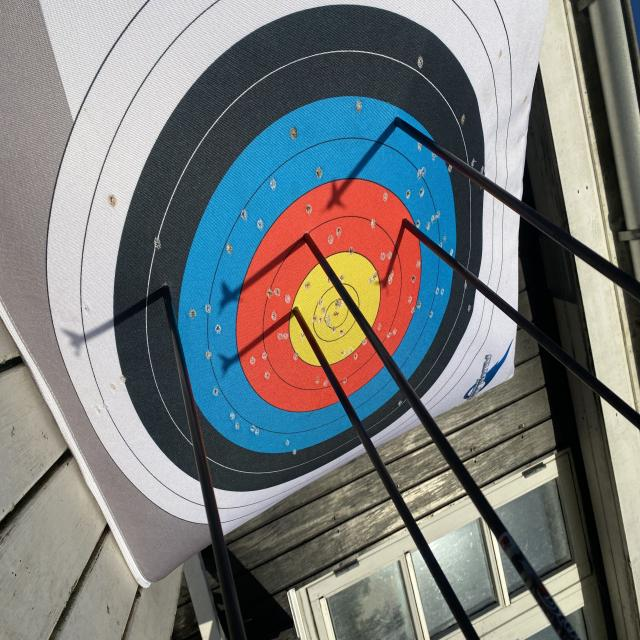Arrow_Black: (144, 266, 190, 302)
Arrow_Blue: (389, 106, 416, 142)
Arrow_Red: (289, 223, 325, 265), (390, 201, 423, 238)
Arrow_Yellow: (281, 298, 309, 330)
